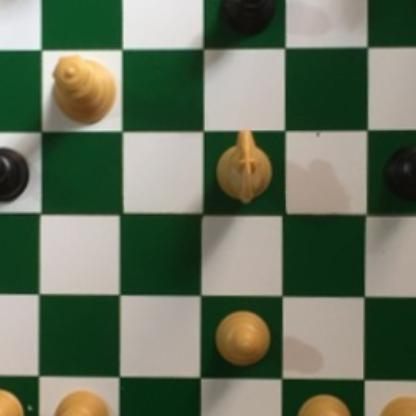black-pawn: (216, 0, 272, 38), (380, 144, 416, 203), (0, 144, 30, 201)
white-knight: (215, 124, 274, 208)
white-pawn: (211, 305, 274, 365), (51, 386, 112, 416), (291, 388, 355, 416), (0, 385, 28, 416), (376, 396, 416, 416)
white-queen: (48, 53, 119, 129)
